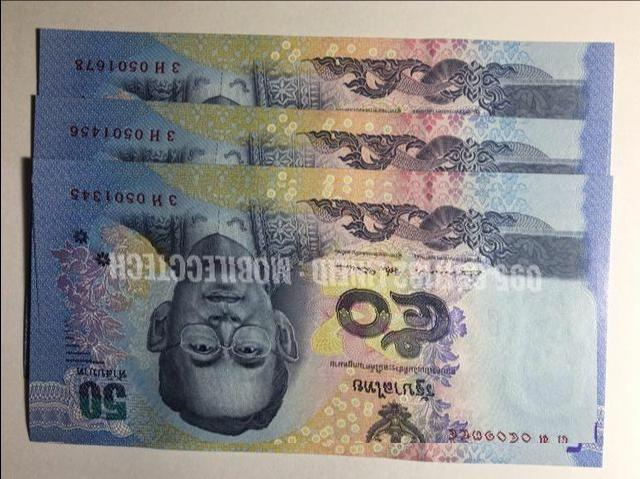50BahtTai: (30, 175, 598, 443)
